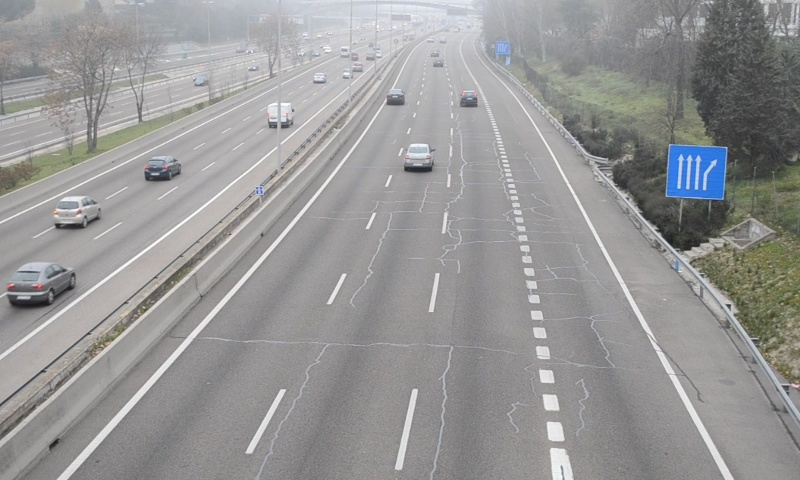car: (404, 143, 432, 170), (459, 90, 478, 108), (386, 89, 404, 106)
